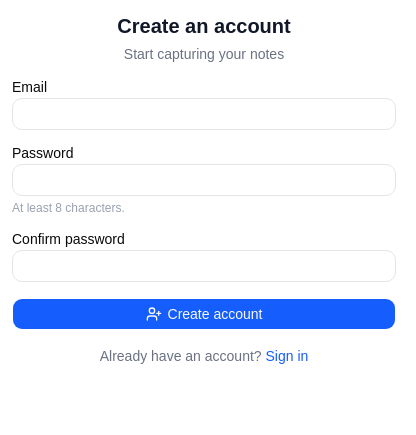
it: RegisterForm › blocks submission and shows a validation error when passwords don't match
Type "a@b.com" into the field labelled "Email".
click(204, 114); type("a@b.com")  # box [12, 98, 396, 130]
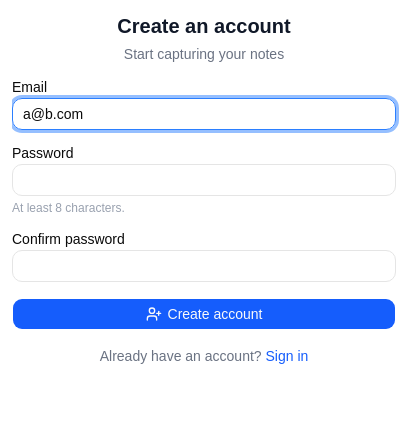
Type "password1" into the password field labelled "Password".
click(204, 180); type("password1")  # box [12, 164, 396, 196]
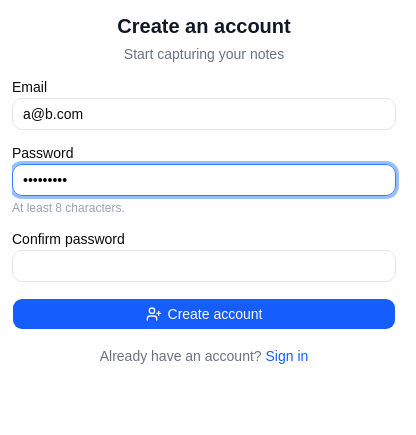
Type "password2" into the password field labelled "Confirm password".
click(204, 266); type("password2")  # box [12, 250, 396, 282]
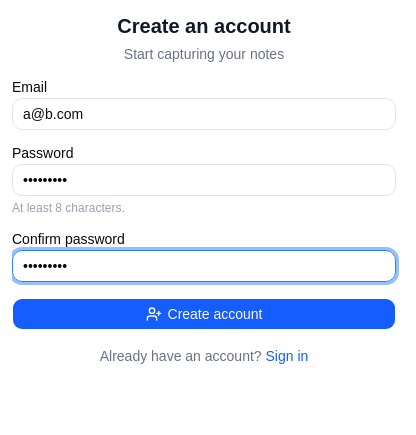
Click the button "Create account".
click(204, 314)  # box [12, 298, 396, 330]
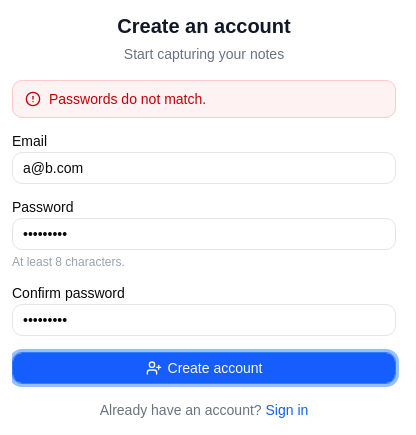
Expected: the text "Passwords do not match." is shown, [49, 89, 206, 109]
